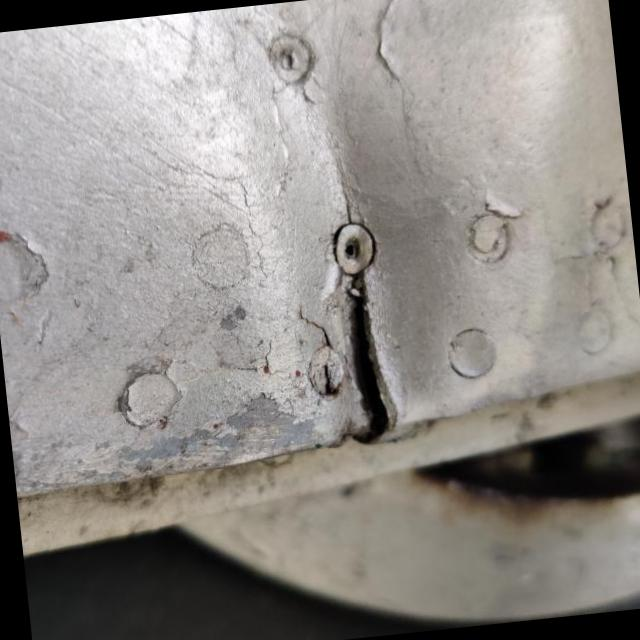Crack: (348, 272, 394, 443)
